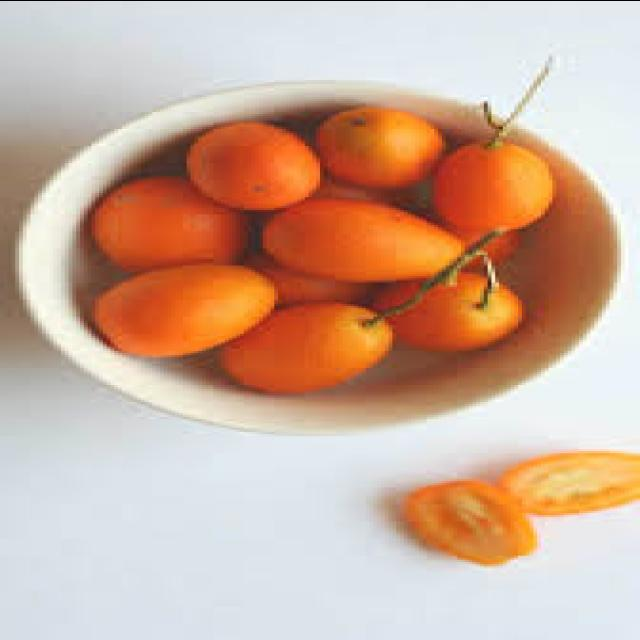orange: (262, 191, 462, 281)
